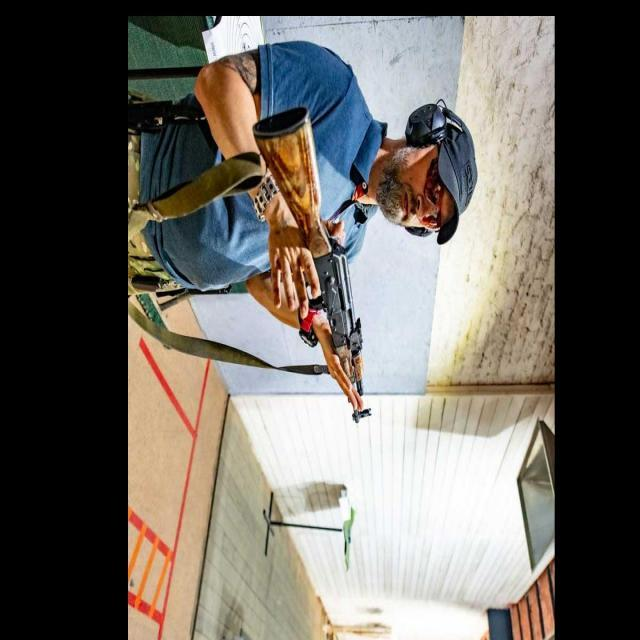weapon: (252, 104, 372, 428)
